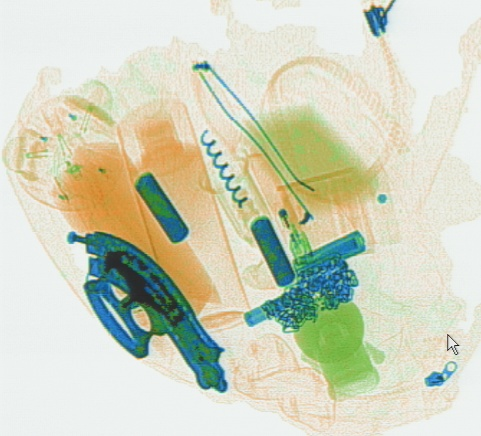knife: (64, 228, 227, 392)
lighter: (249, 148, 312, 262)
